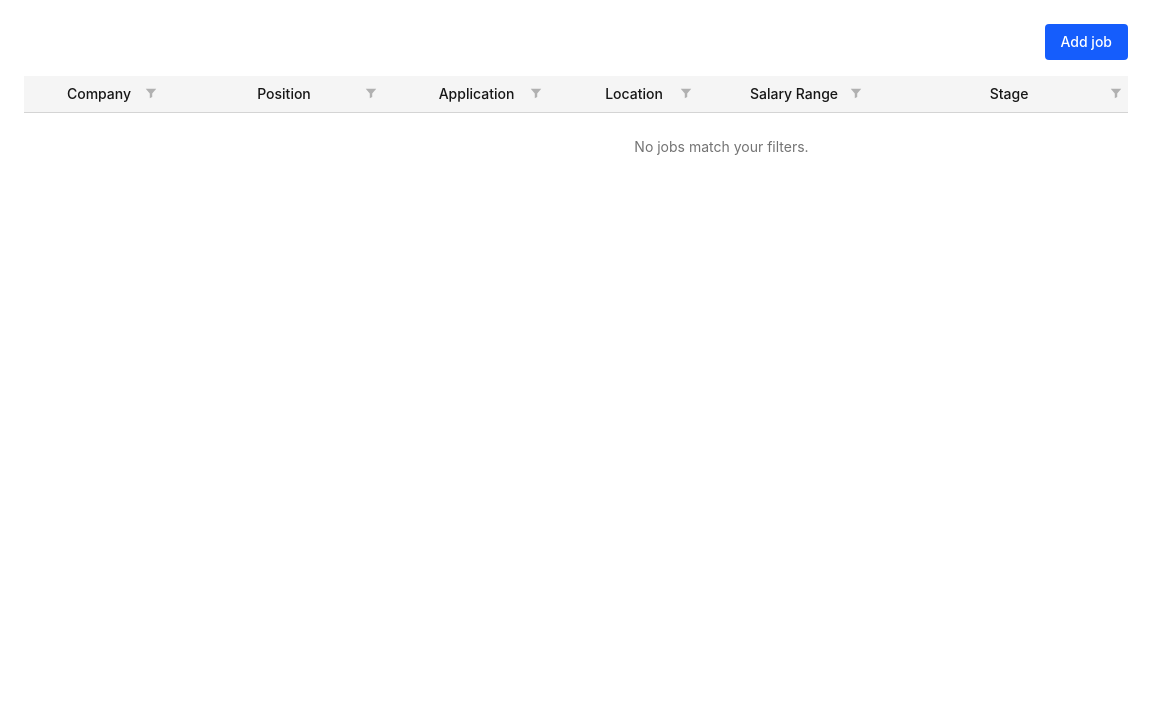
Test: HomePage › opens the Add job modal, and submitting inside it closes the modal and refreshes the jobs list
The width and height of the screenshot is (1152, 720).
Click the button "Add job" at (1086, 42), box [1044, 24, 1128, 60]
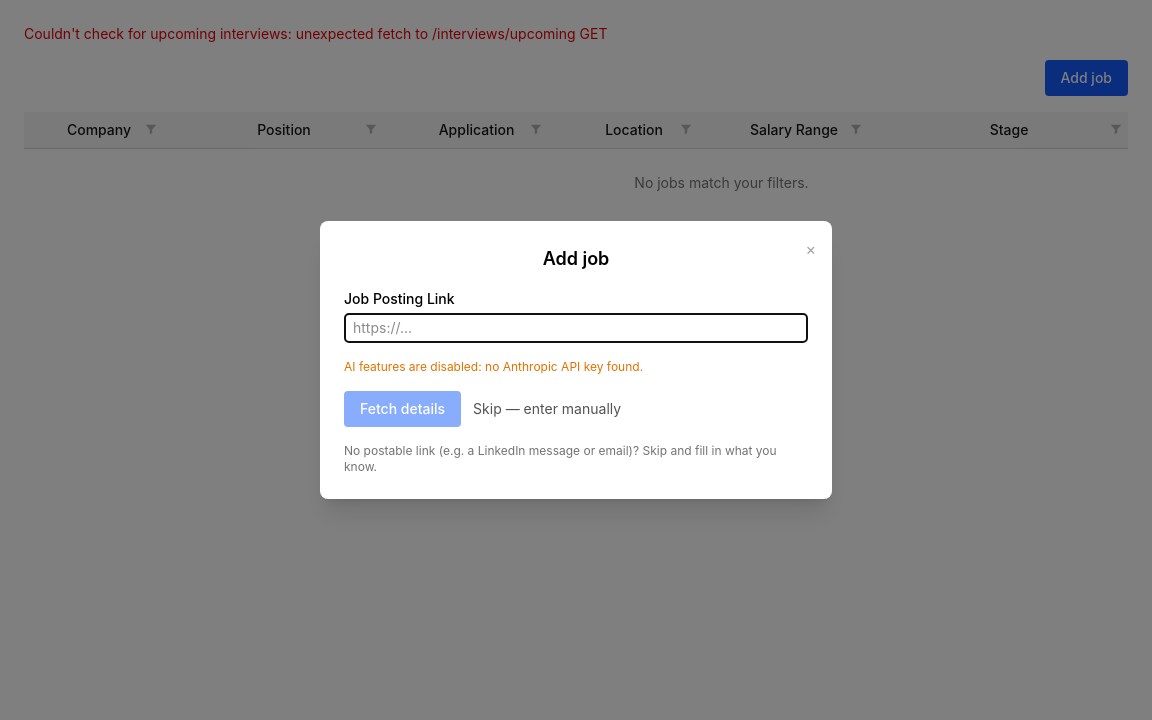
Click the button "Skip — enter manually" at (547, 409), box [473, 399, 621, 419]
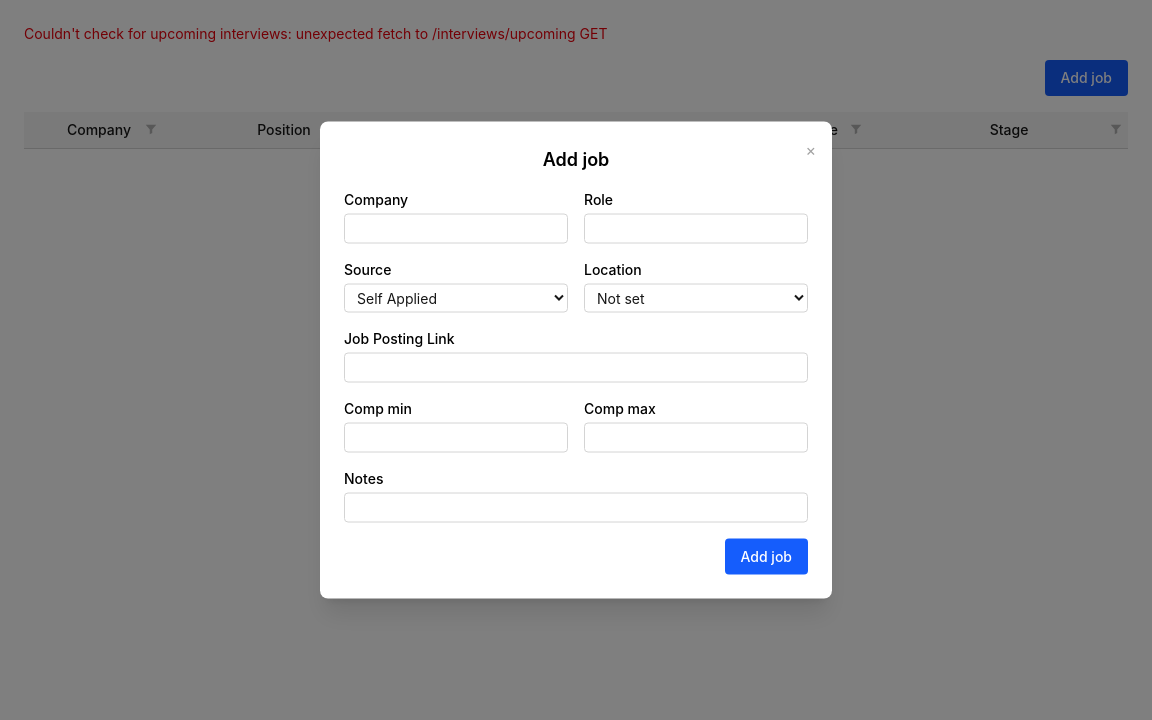
Expected: the field labelled "Company" is shown
Type "Acme" into the field labelled "Company" at (456, 228), box [344, 214, 568, 244]
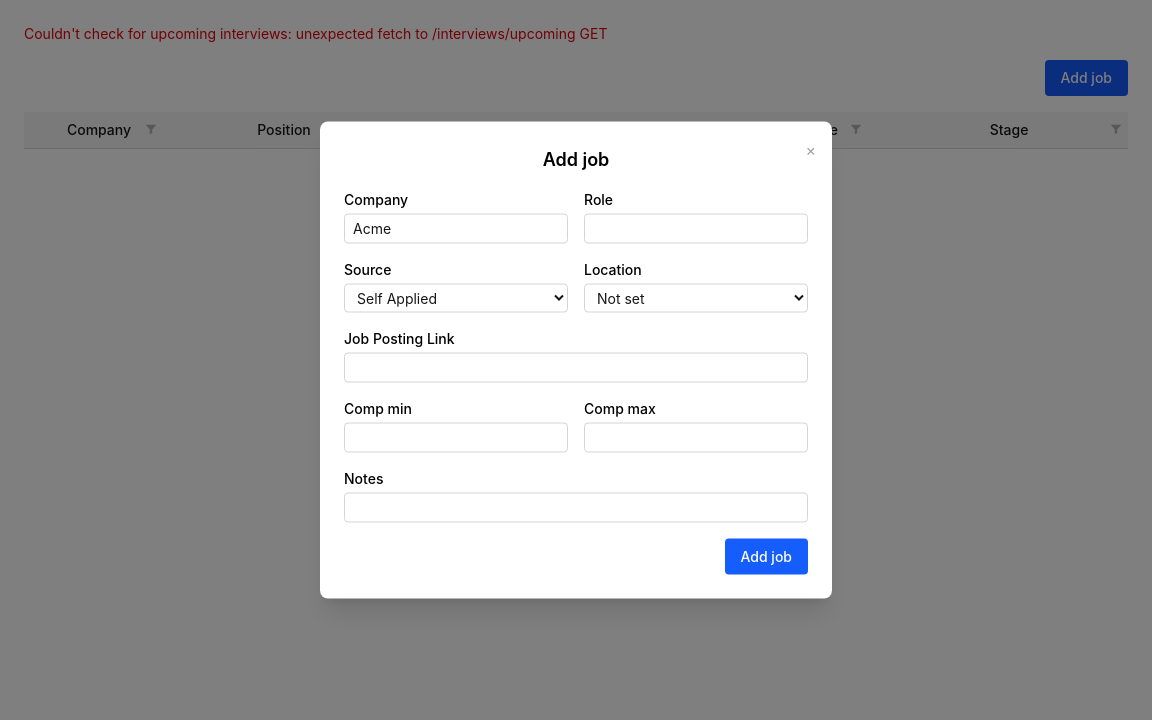
Type "Engineer" into the field labelled "Role" at (696, 228), box [584, 214, 808, 244]
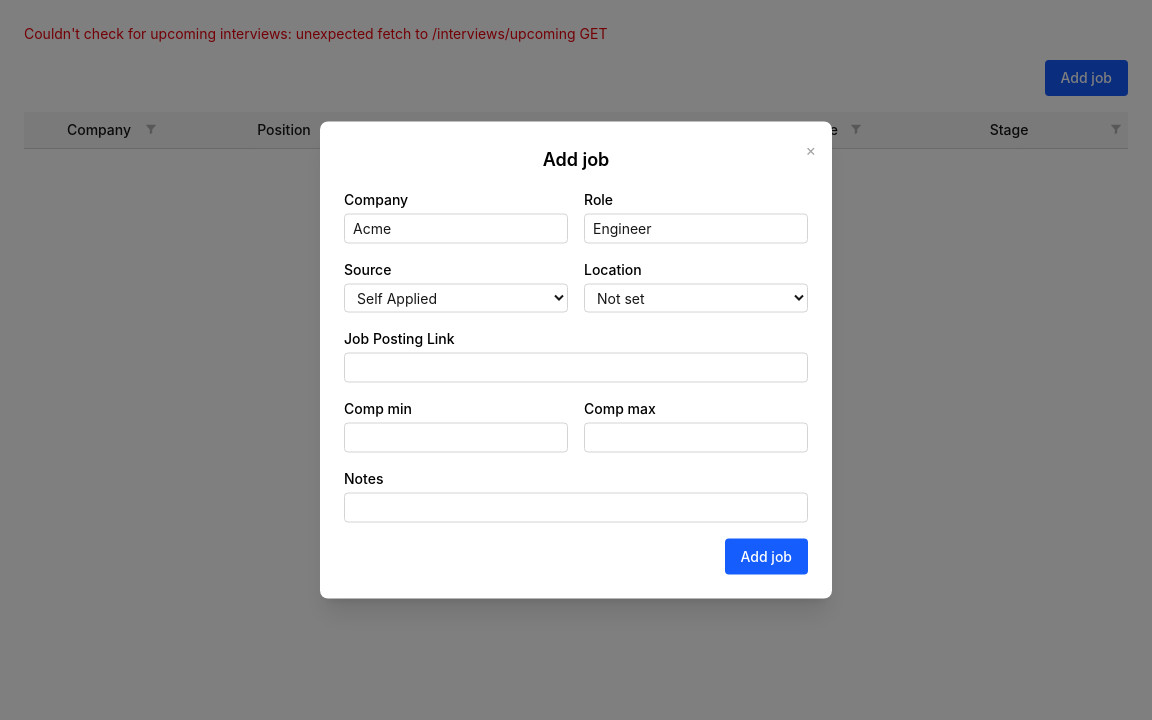
Click the button "Add job" at (766, 556), box [724, 538, 808, 574]
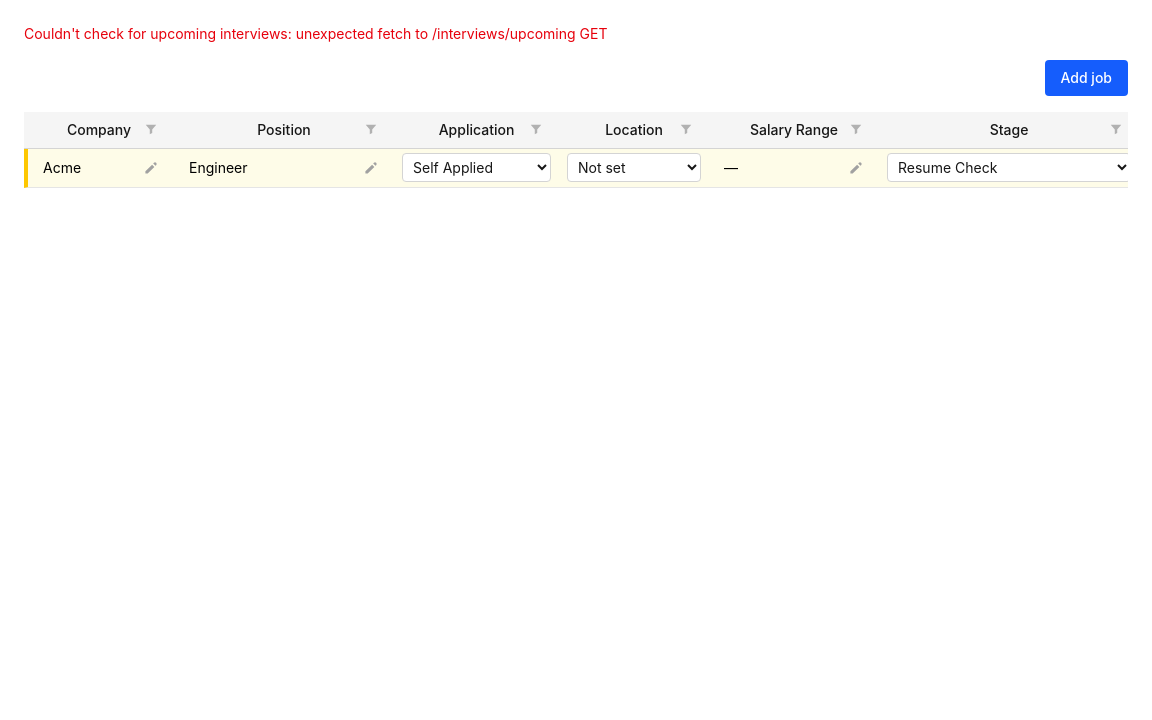
Expected: the dialog is gone
Expected: the text "Acme" is shown, [43, 158, 81, 178]
